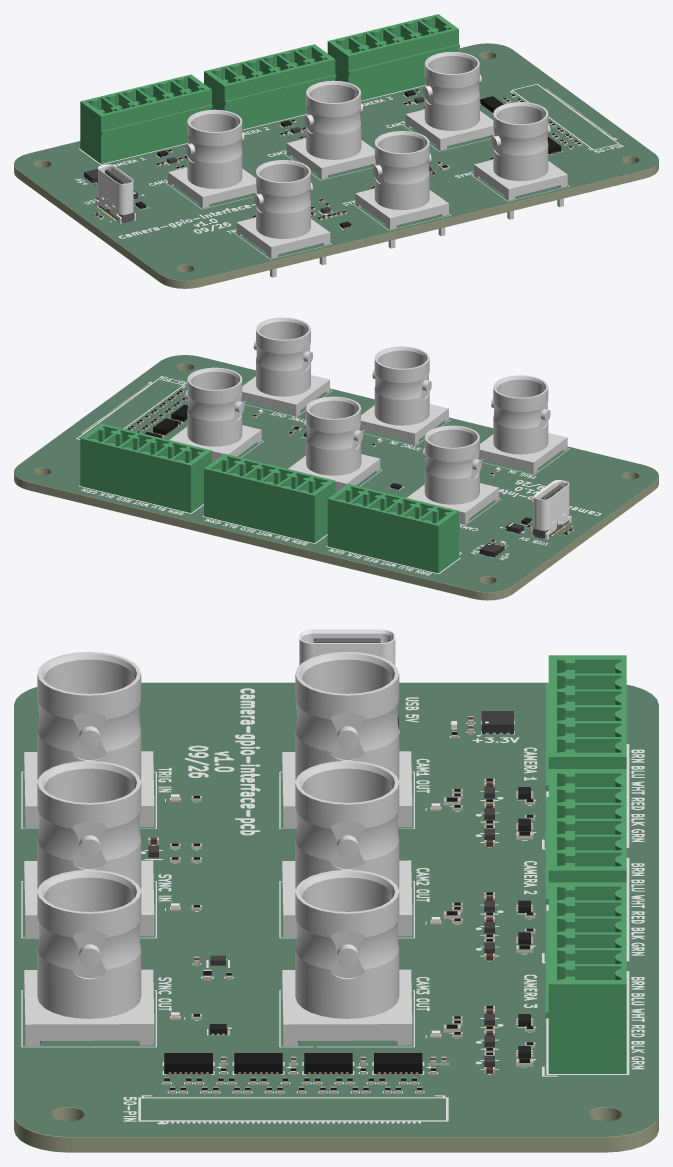
The model's file is camera-gpio-interface-pcb.glb.
The picture shows the model from 3 angles, top to bottom: view 1: azimuth 30°, elevation 25°; view 2: azimuth 150°, elevation 25°; view 3: azimuth 270°, elevation 25°; orthographic projection. The views are drawn at different scales.
Visible parts, largest first — view 1: =>[0:1:1:57], =>[0:1:1:55], =>[0:1:1:14] (×6), =>[0:1:1:49] (×3), =>[0:1:1:54], =>0:1:1:44, =>[0:1:1:56]; view 2: =>[0:1:1:57], =>[0:1:1:14] (×6), =>[0:1:1:55], =>[0:1:1:49] (×3), =>[0:1:1:54], =>0:1:1:44, =>[0:1:1:56]; view 3: =>[0:1:1:55], =>[0:1:1:57], =>[0:1:1:14] (×6), =>[0:1:1:49] (×3), =>[0:1:1:54], BODY-QFN (×4), =>0:1:1:44, =>[0:1:1:53].
Boxes of the visible parts, bbox=[...] form: =>[0:1:1:57]: bbox=[14, 44, 658, 288]; =>[0:1:1:55]: bbox=[14, 43, 658, 280]; =>[0:1:1:14] (×6): bbox=[168, 51, 567, 277]; =>[0:1:1:49] (×3): bbox=[80, 14, 459, 163]; =>[0:1:1:54]: bbox=[75, 83, 623, 259]; =>0:1:1:44: bbox=[95, 164, 135, 224]; =>[0:1:1:56]: bbox=[17, 168, 658, 288]; =>[0:1:1:57]: bbox=[14, 356, 658, 600]; =>[0:1:1:14] (×6): bbox=[169, 317, 567, 523]; =>[0:1:1:55]: bbox=[14, 355, 658, 592]; =>[0:1:1:49] (×3): bbox=[80, 423, 459, 573]; =>[0:1:1:54]: bbox=[76, 375, 601, 575]; =>0:1:1:44: bbox=[531, 480, 571, 539]; =>[0:1:1:56]: bbox=[15, 483, 657, 600]; =>[0:1:1:55]: bbox=[14, 682, 658, 1136]; =>[0:1:1:57]: bbox=[14, 683, 658, 1151]; =>[0:1:1:14] (×6): bbox=[24, 651, 412, 1045]; =>[0:1:1:49] (×3): bbox=[545, 655, 626, 1073]; =>[0:1:1:54]: bbox=[21, 688, 644, 1124]; BODY-QFN (×4): bbox=[164, 1053, 422, 1073]; =>0:1:1:44: bbox=[299, 629, 395, 665]; =>[0:1:1:53]: bbox=[481, 711, 513, 734].
Bounding box in the file's own units: 0.1 × 0.017 × 0.06.
